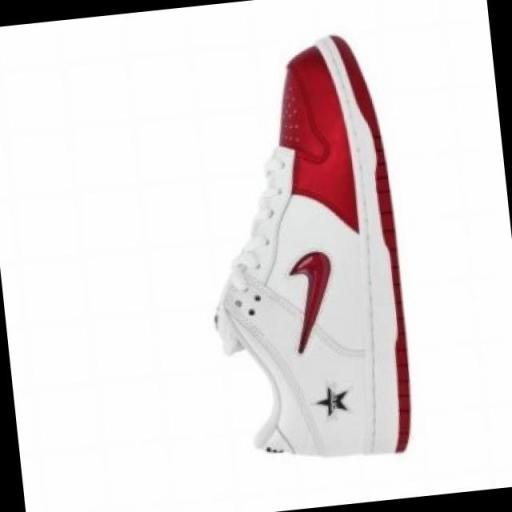Nike: (275, 244, 344, 360)
